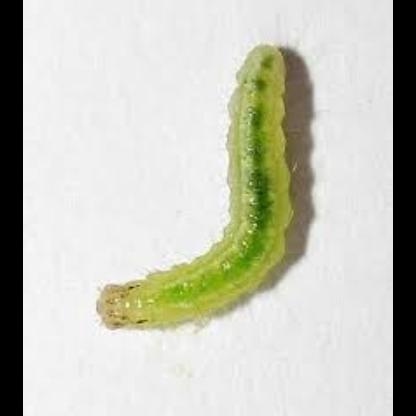oruga: (97, 37, 299, 335)
